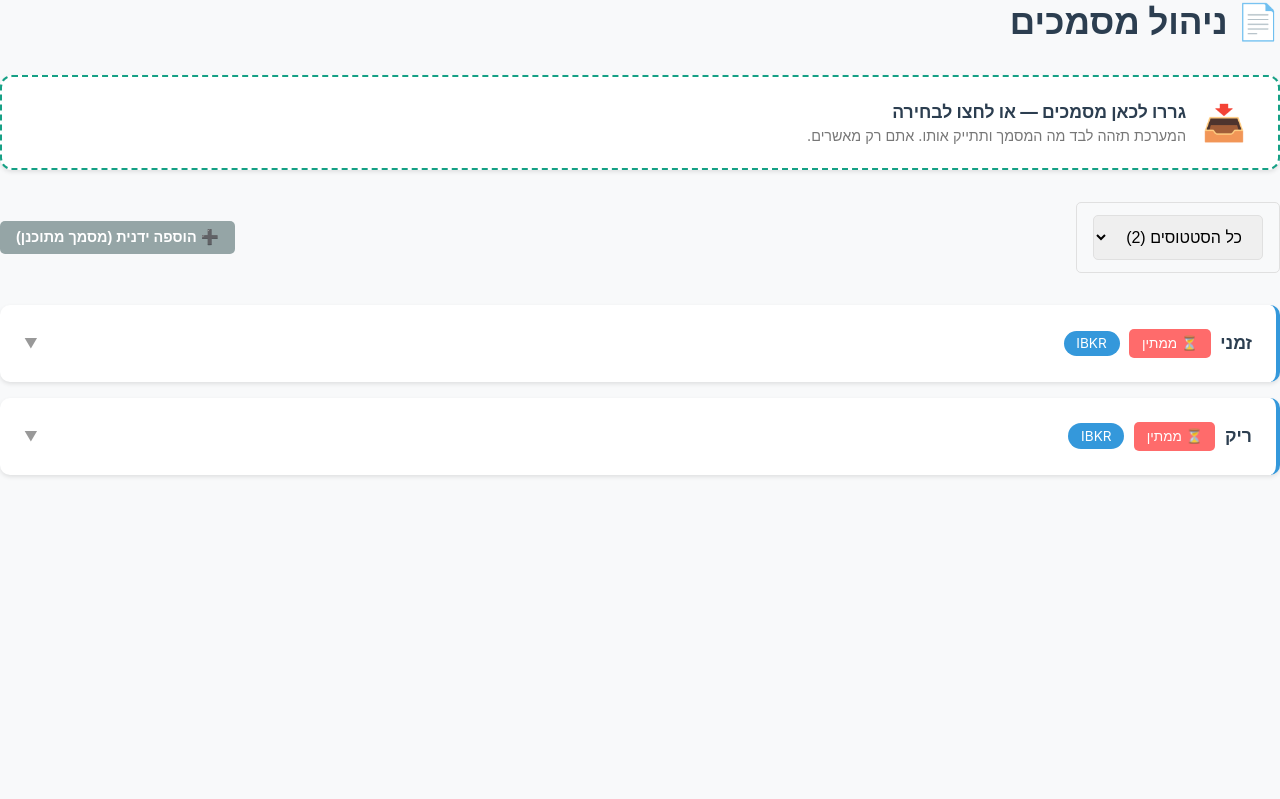
DocumentPage — זיהוי אוטומטי בכרטיס (החלפת קובץ) › כרטיס עם קובץ מציג "החלף קובץ"; כרטיס בלי קובץ מפנה לתיבת הקליטה
The width and height of the screenshot is (1280, 799).
What coordinates should you click on to do the following:
click the button with class "doc-header-toggle" showing "זמני ⏳ ממתין IBKR ▼"
I would click on:
 (1236, 343)
Its box is [24,329,1252,358].
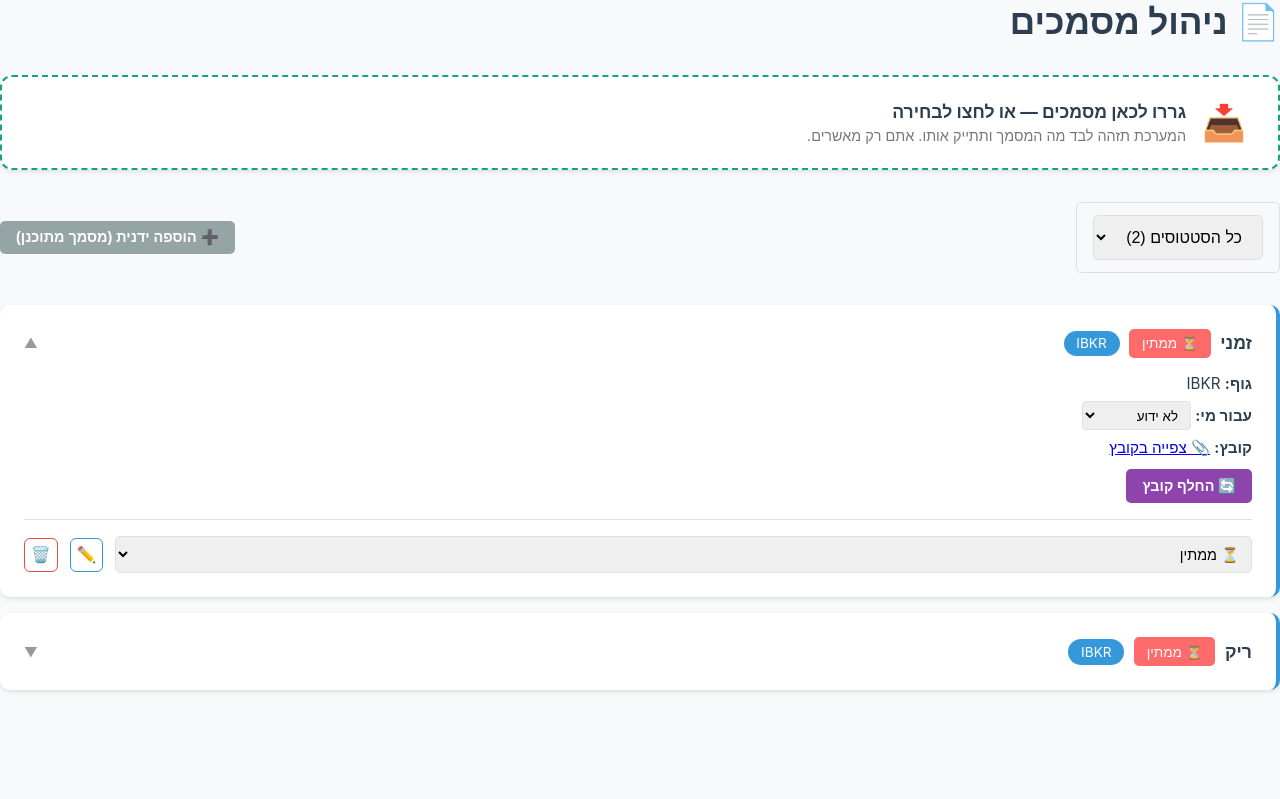
What coordinates should you click on to do the following:
click the button with class "doc-header-toggle" showing "ריק ⏳ ממתין IBKR ▼"
I would click on:
 (1175, 652)
Its box is [24,637,1252,666].
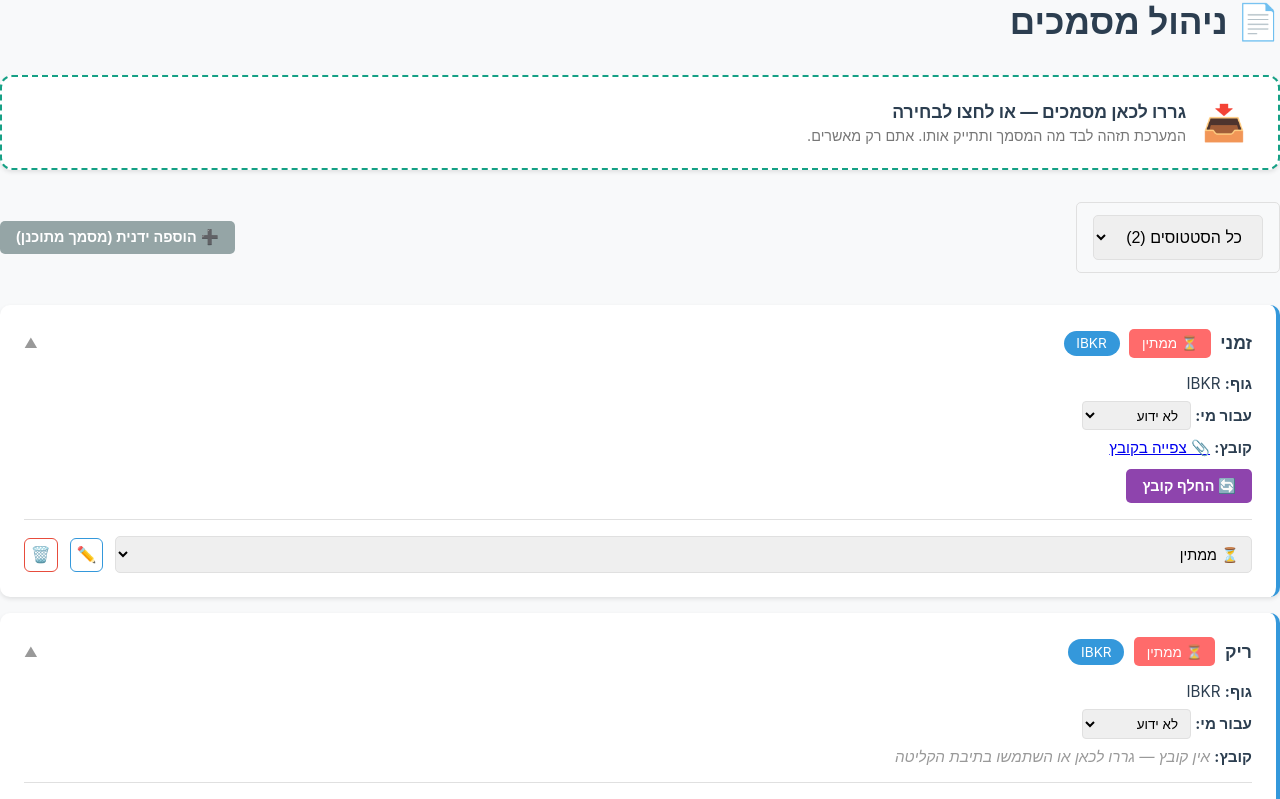
Expected: the file field "🔄 החלף קובץ" is shown, [1126,469,1252,503]
Expected: the text "אין קובץ — גררו לכאן או השתמשו בתיבת הקליטה" is shown, [895,747,1210,766]
